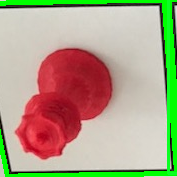Red Queen: (14, 46, 115, 158)
